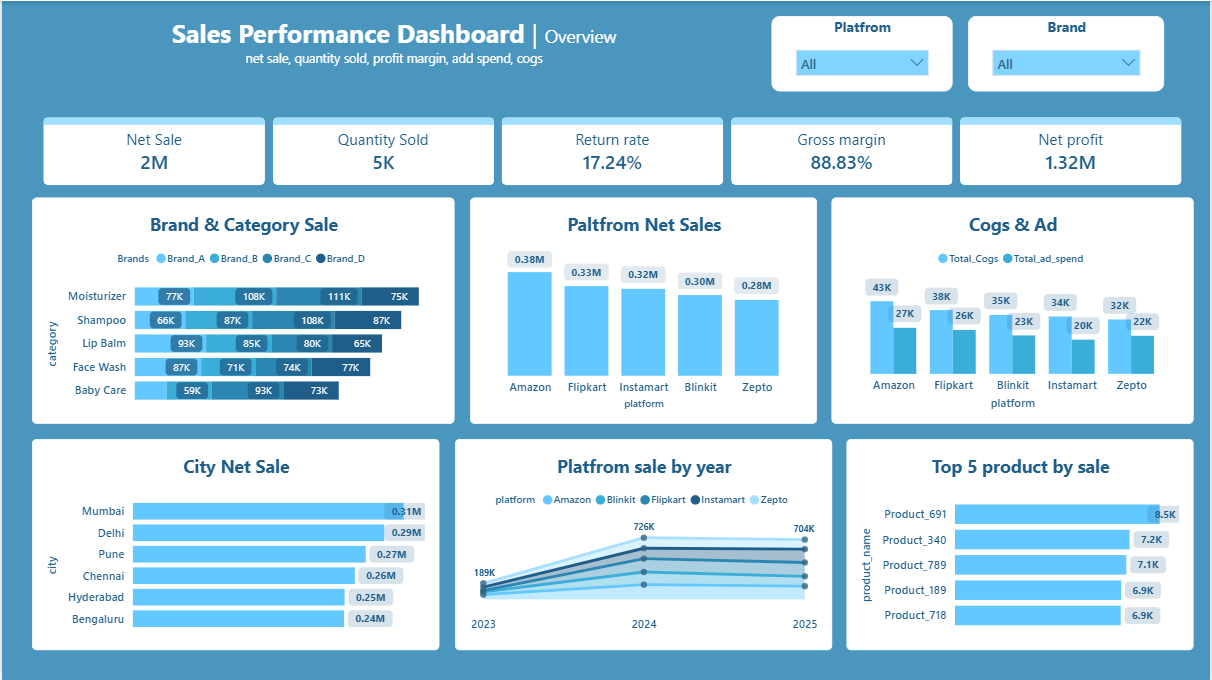

What the dashboard file says about the page in this screenshot:
{"tool":"powerbi","page":{"name":"Sales Dasboard","canvas":[1280,720],"ordinal":0},"visuals":[{"type":"cardVisual","fields":{"Data":["EnigmaData_Data_Analyst_Sample_Data 1.Total_net_sales","EnigmaData_Data_Analyst_Sample_Data 1.Total_quantity","EnigmaData_Data_Analyst_Sample_Data 1.Return_rate %","EnigmaData_Data_Analyst_Sample_Data 1.gross_margin%","EnigmaData_Data_Analyst_Sample_Data 1.Net_profit"]},"box":[32,112,1232,96],"z":0},{"type":"stackedAreaChart","title":"Platfrom sale by year","fields":{"Category":["EnigmaData_Data_Analyst_Sample_Data 1.date.Variation.Date Hierarchy.Year"],"Y":["EnigmaData_Data_Analyst_Sample_Data 1.Total_net_sales"],"Series":["EnigmaData_Data_Analyst_Sample_Data 1.platform"]},"box":[480,464,400,224],"z":1000},{"type":"clusteredColumnChart","title":"Paltfrom Net Sales","fields":{"Category":["EnigmaData_Data_Analyst_Sample_Data 1.platform"],"Y":["EnigmaData_Data_Analyst_Sample_Data 1.Total_net_sales"]},"box":[496,208,368,240],"z":2000},{"type":"barChart","title":"City Net Sale","fields":{"Category":["EnigmaData_Data_Analyst_Sample_Data 1.city"],"Y":["EnigmaData_Data_Analyst_Sample_Data 1.Total_net_sales"]},"box":[32,464,432,224],"z":3000},{"type":"barChart","title":"Brand & Category Sale","fields":{"Category":["EnigmaData_Data_Analyst_Sample_Data 1.category"],"Y":["EnigmaData_Data_Analyst_Sample_Data 1.Total_net_sales"],"Series":["EnigmaData_Data_Analyst_Sample_Data 1.brand"]},"box":[32,208,448,240],"z":4000},{"type":"clusteredColumnChart","title":"Cogs & Ad","fields":{"Category":["EnigmaData_Data_Analyst_Sample_Data 1.platform"],"Y":["EnigmaData_Data_Analyst_Sample_Data 1.Total_Cogs","EnigmaData_Data_Analyst_Sample_Data 1.Total_ad_spend"]},"box":[880,208,384,240],"z":5000},{"type":"barChart","title":"Top 5 product by sale","fields":{"Category":["EnigmaData_Data_Analyst_Sample_Data 1.product_name"],"Y":["EnigmaData_Data_Analyst_Sample_Data 1.Total_net_sales"]},"box":[896,464,368,224],"z":6000},{"type":"slicer","title":"Platfrom","fields":{"Values":["EnigmaData_Data_Analyst_Sample_Data 1.platform"]},"box":[816,16,192,80],"z":7000},{"type":"slicer","title":"Brand","fields":{"Values":["EnigmaData_Data_Analyst_Sample_Data 1.brand"]},"box":[1024,16,208,80],"z":8000},{"type":"textbox","box":[32,16,768,80],"z":9000}]}

Visuals, with their boxes in screenshot pixels (x1, y1, x2, y2), scaled from the page's 1280x720 canvas onto the 1212x680 screenshot:
cardVisual - EnigmaData_Data_Analyst_Sample_Data 1.Total_net_sales x EnigmaData_Data_Analyst_Sample_Data 1.Total_quantity: (x1=30, y1=106, x2=1197, y2=196)
"Platfrom sale by year" stackedAreaChart: (x1=454, y1=438, x2=833, y2=650)
"Paltfrom Net Sales" clusteredColumnChart: (x1=470, y1=196, x2=818, y2=423)
"City Net Sale" barChart: (x1=30, y1=438, x2=439, y2=650)
"Brand & Category Sale" barChart: (x1=30, y1=196, x2=454, y2=423)
"Cogs & Ad" clusteredColumnChart: (x1=833, y1=196, x2=1197, y2=423)
"Top 5 product by sale" barChart: (x1=848, y1=438, x2=1197, y2=650)
"Platfrom" slicer: (x1=773, y1=15, x2=954, y2=91)
"Brand" slicer: (x1=970, y1=15, x2=1167, y2=91)
textbox: (x1=30, y1=15, x2=758, y2=91)
